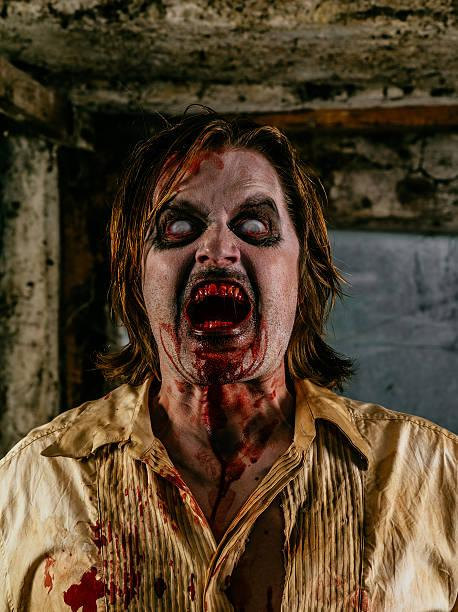Zombie: (129, 119, 311, 374)
